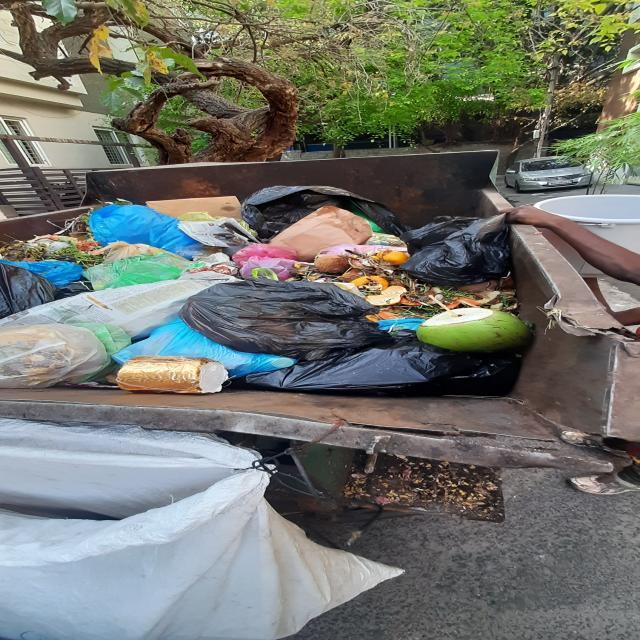Garbage: (0, 186, 532, 396)
Plastic: (117, 356, 228, 394)
Plastic_Bag: (231, 329, 521, 396), (179, 279, 388, 360), (111, 319, 298, 379), (241, 185, 410, 242), (401, 215, 510, 286), (0, 325, 106, 388), (90, 205, 206, 259), (84, 251, 205, 290), (71, 322, 130, 384), (0, 264, 57, 319), (233, 244, 298, 280), (0, 260, 84, 286), (71, 322, 130, 356), (90, 241, 168, 262), (347, 202, 385, 232), (317, 244, 407, 256), (54, 281, 92, 300), (366, 232, 407, 248), (377, 319, 426, 330), (176, 211, 228, 221), (222, 242, 247, 256), (46, 241, 71, 252), (236, 220, 255, 234)
